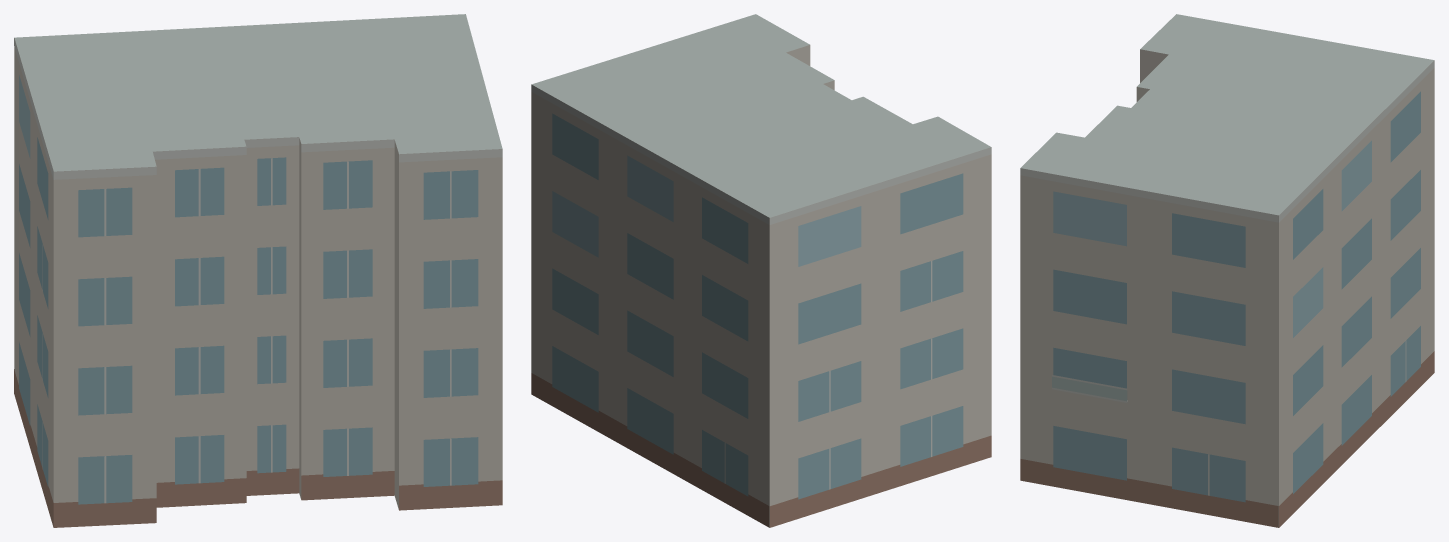
Rendered from survey-upis-32934167.glb.
3 views of the same model, side by side, from view 1: azimuth 30°, elevation 25°; view 2: azimuth 150°, elevation 25°; view 3: azimuth 270°, elevation 25° (orthographic). The views are drawn at different scales.
Visible parts, largest first — view 1: survey-upis-32934167.tmp; view 2: survey-upis-32934167.tmp; view 3: survey-upis-32934167.tmp.
Part boxes in pixels (x1,y1,x2,y2): survey-upis-32934167.tmp: (14,14,502,527); survey-upis-32934167.tmp: (531,14,991,527); survey-upis-32934167.tmp: (1020,14,1434,527).
Size of the model in its own units: 14.52 by 10.5 by 12.63.
